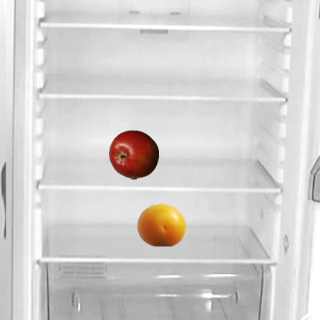Apple Braeburn: (108, 129, 158, 179)
Cherry Wax Yellow: (136, 199, 186, 249)
